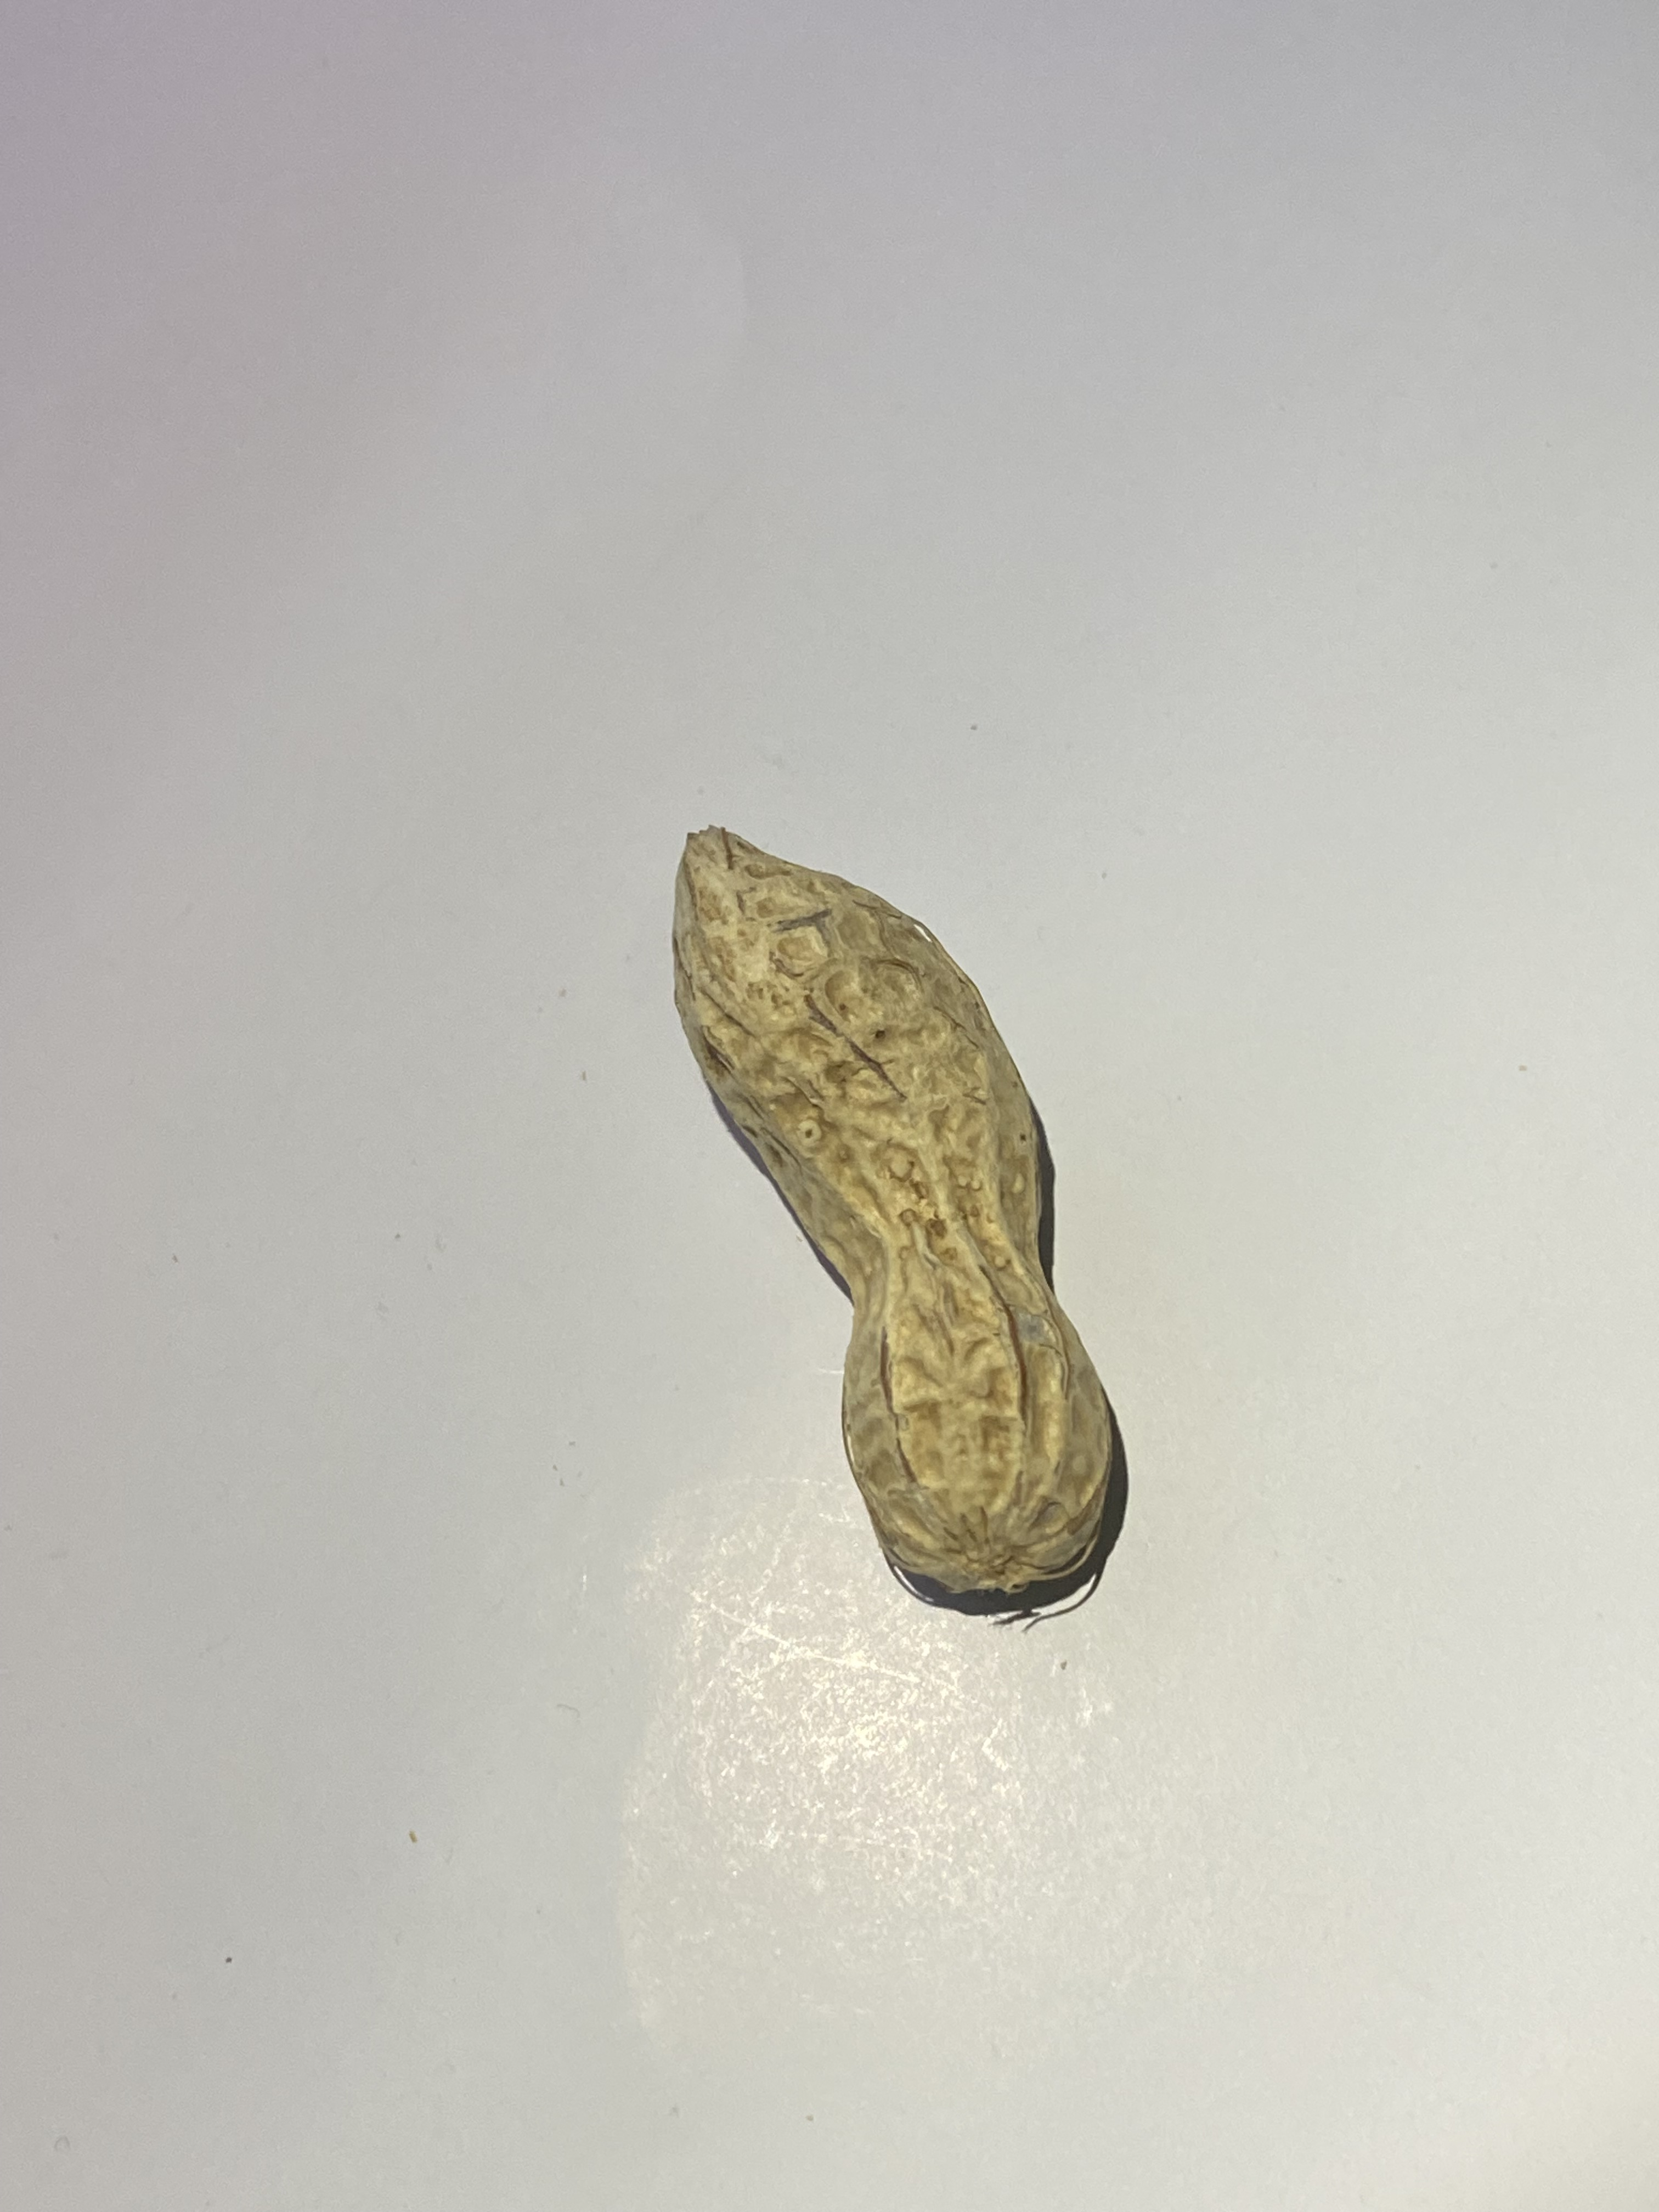kacang3: (648, 787, 1129, 1637)
